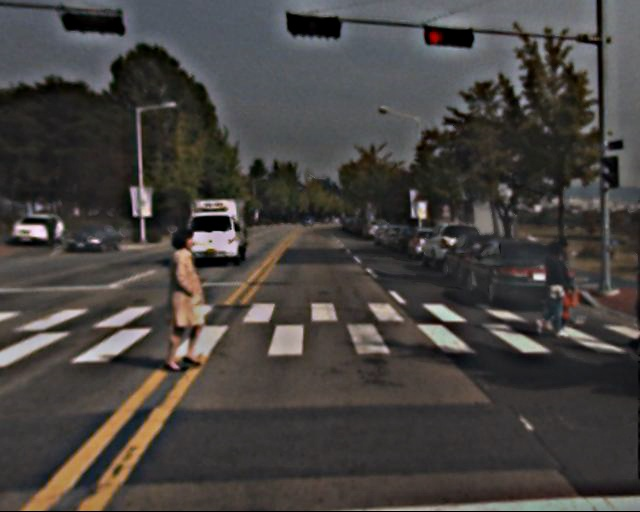person: (154, 230, 213, 374), (534, 243, 571, 333), (46, 218, 58, 247)
